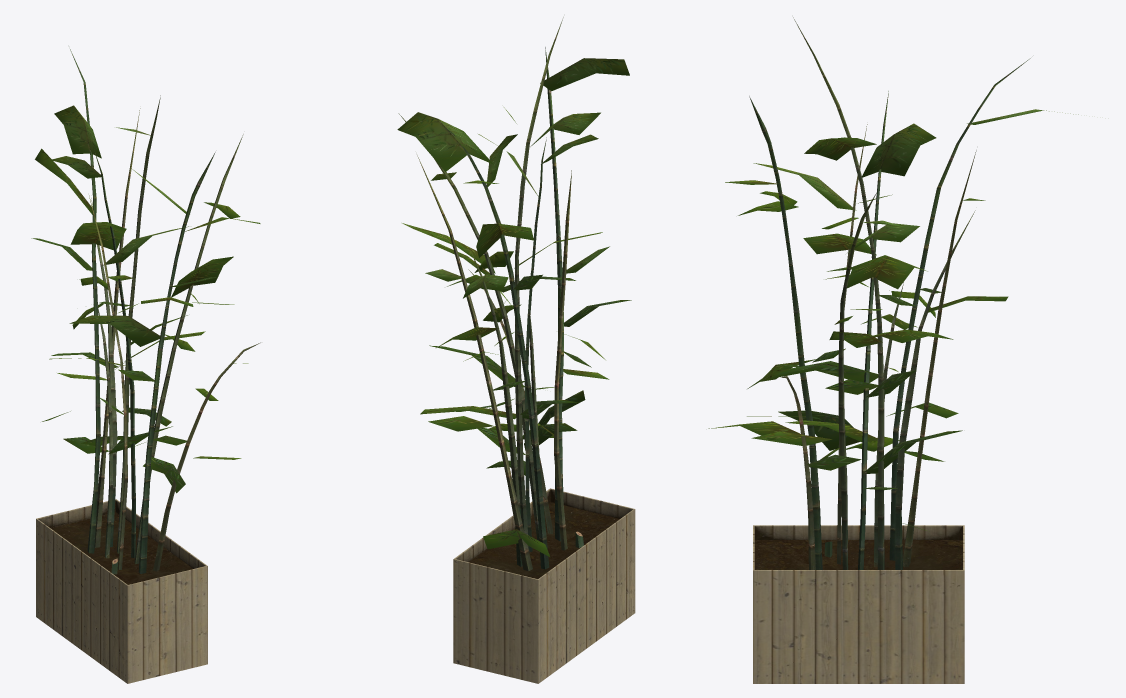
The model's file is bamboo-gltf-alpha-none.gltf.
3 views of the same model, side by side, from view 1: azimuth 30°, elevation 25°; view 2: azimuth 150°, elevation 25°; view 3: azimuth 270°, elevation 25° (orthographic). The views are drawn at different scales.
Visible parts, largest first — view 1: hotel_lower_bamboo_trim, hotel_lower_case; view 2: hotel_lower_bamboo_trim, hotel_lower_case; view 3: hotel_lower_bamboo_trim, hotel_lower_case.
Part boxes in pixels (x1=…): hotel_lower_bamboo_trim: x1=31, y1=49, x2=260, y2=574; hotel_lower_case: x1=36, y1=499, x2=207, y2=683; hotel_lower_bamboo_trim: x1=397, y1=17, x2=631, y2=571; hotel_lower_case: x1=453, y1=488, x2=635, y2=683; hotel_lower_bamboo_trim: x1=708, y1=17, x2=1078, y2=569; hotel_lower_case: x1=753, y1=525, x2=964, y2=683.
Bounding box in the file's own units: 136 × 295 × 172.
2 materials, 2 textured.
